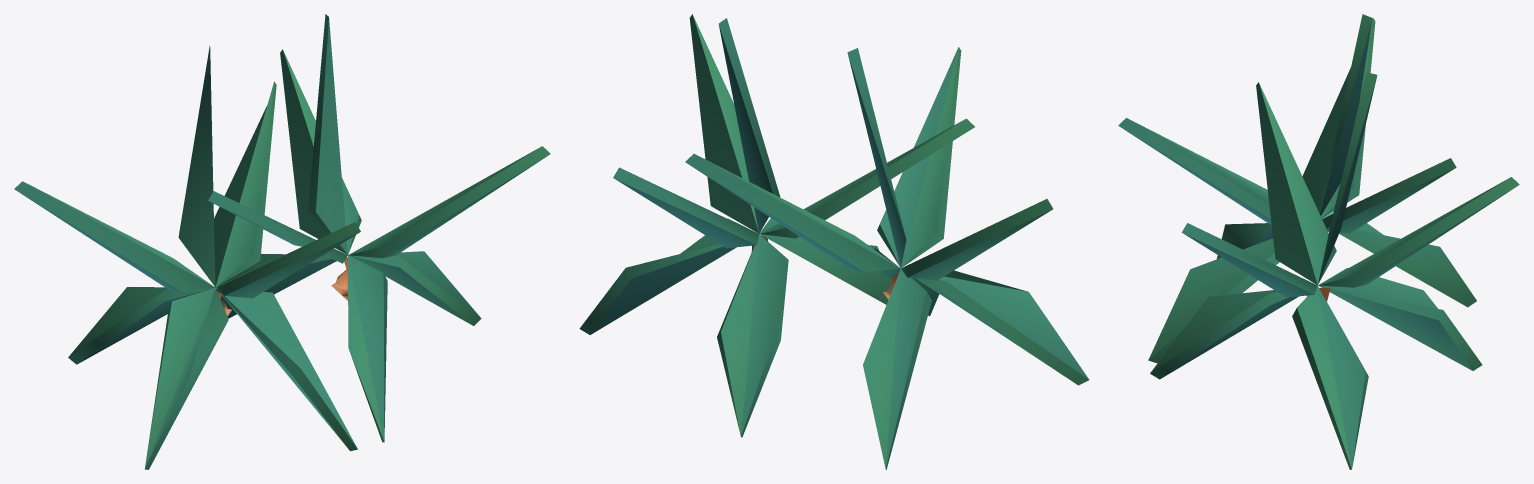
Rendered from cycad_far.glb.
The picture shows the model from 3 angles, left to right: view 1: azimuth 30°, elevation 25°; view 2: azimuth 150°, elevation 25°; view 3: azimuth 270°, elevation 25°; orthographic projection. The views are drawn at different scales.
Visible parts, largest first — view 1: yucca_branch_medium_A; view 2: yucca_branch_medium_A; view 3: yucca_branch_medium_A.
Part boxes in pixels (left/top/right/bottom): yucca_branch_medium_A: left=14, top=14, right=550, bottom=469; yucca_branch_medium_A: left=579, top=14, right=1089, bottom=469; yucca_branch_medium_A: left=1118, top=14, right=1519, bottom=469.
Bounding box in the file's own units: 1.22 × 0.8575 × 0.9402.
Materials: 1 (1 with a texture image).
